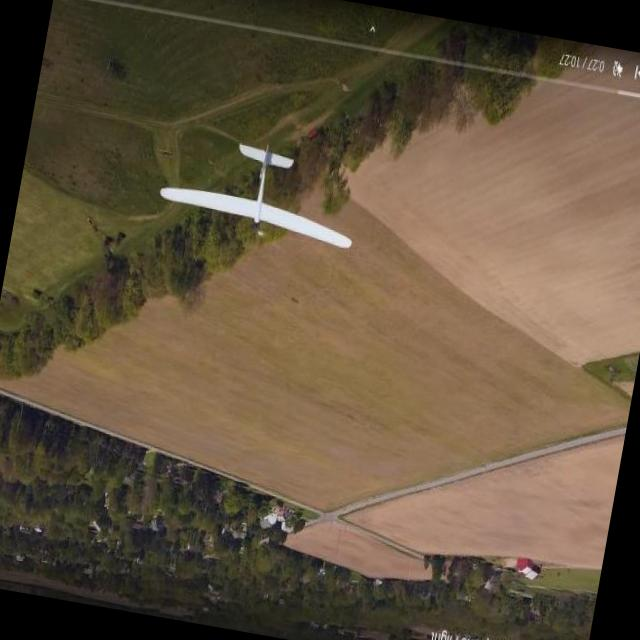UAV: (137, 95, 370, 264)
